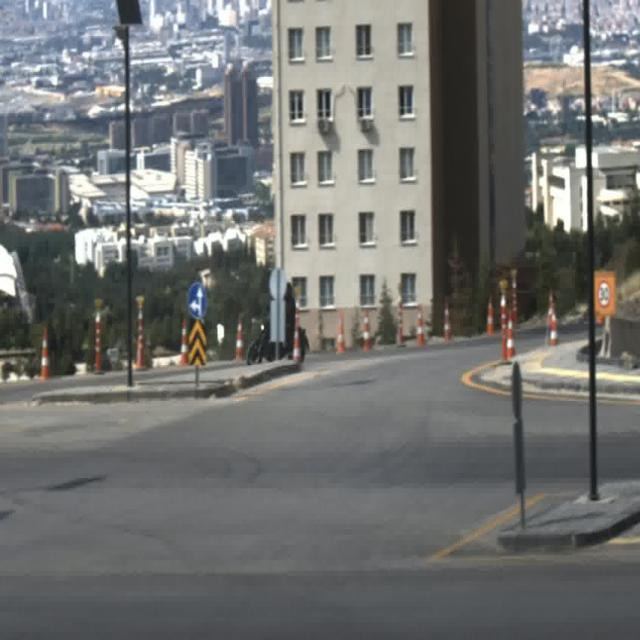Motorcycle: (247, 283, 307, 362)
